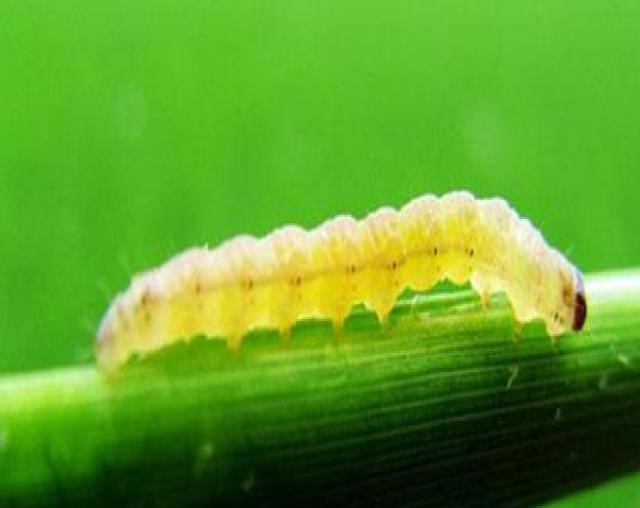yellow-stem-borer-larva: (78, 174, 620, 386)
